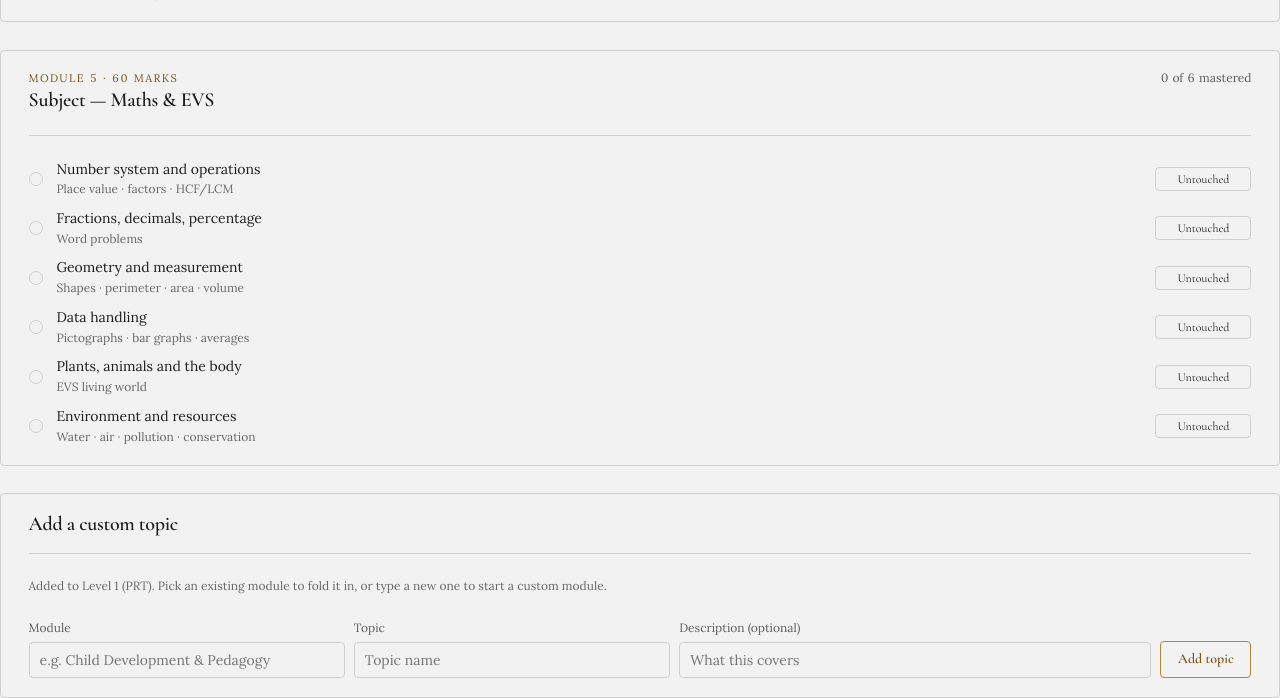
Test: Syllabus custom topics › deleting a custom topic removes it from the syllabus view
The width and height of the screenshot is (1280, 698).
(page scrolled)
Type "My Own Module" into the field with placeholder "e.g. Child Development & Pedagogy" at x=187, y=660, box [29,642,345,678]
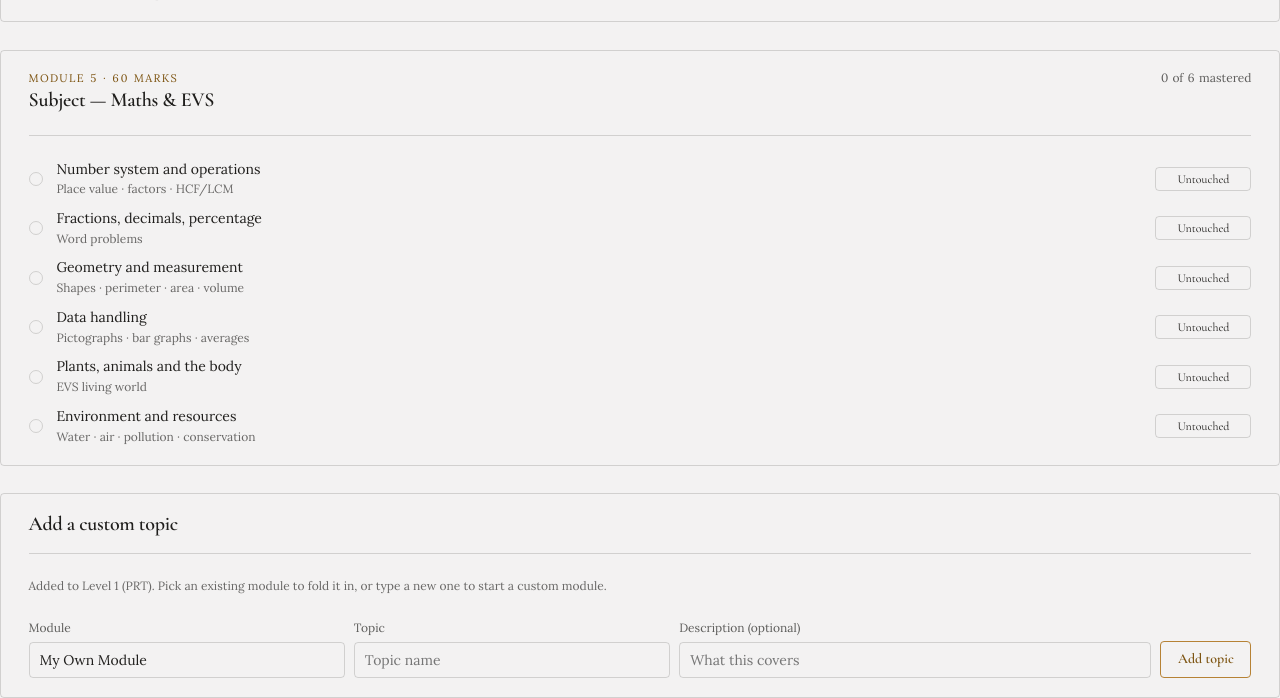
Type "Topic X" into the field with placeholder "Topic name" at x=512, y=660, box [354,642,670,678]
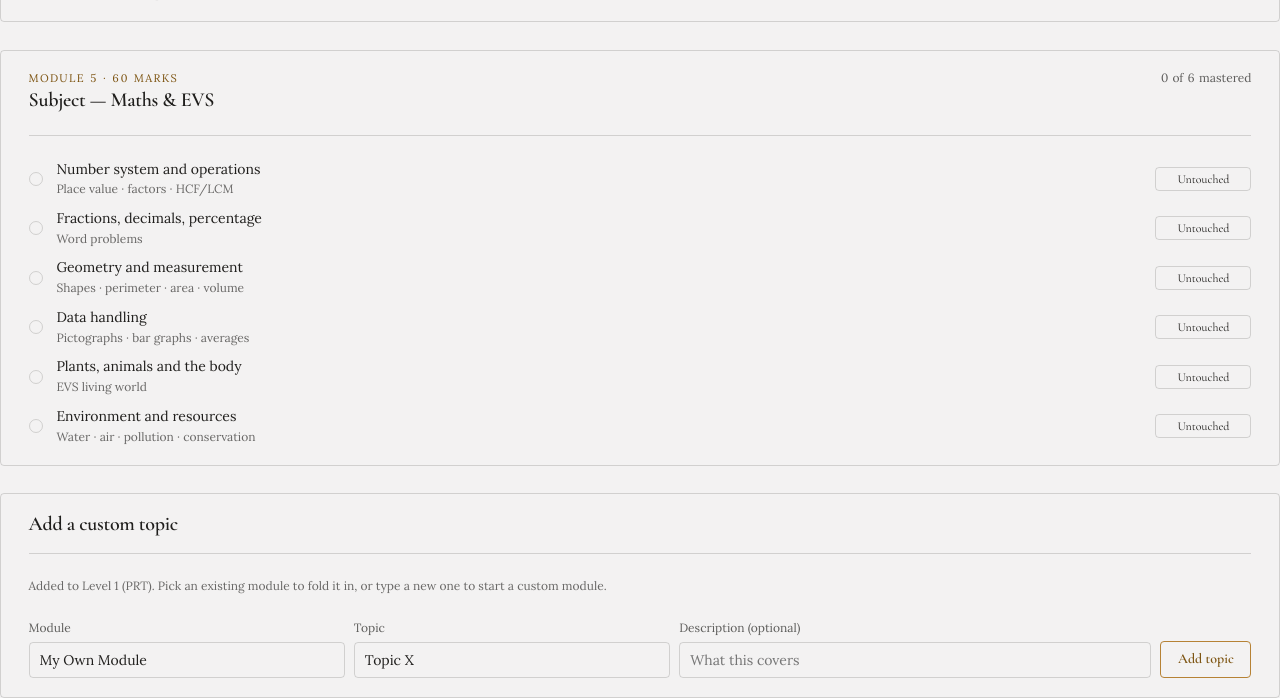
Click the button "Add topic" at x=1206, y=660, box [1160,641,1251,678]
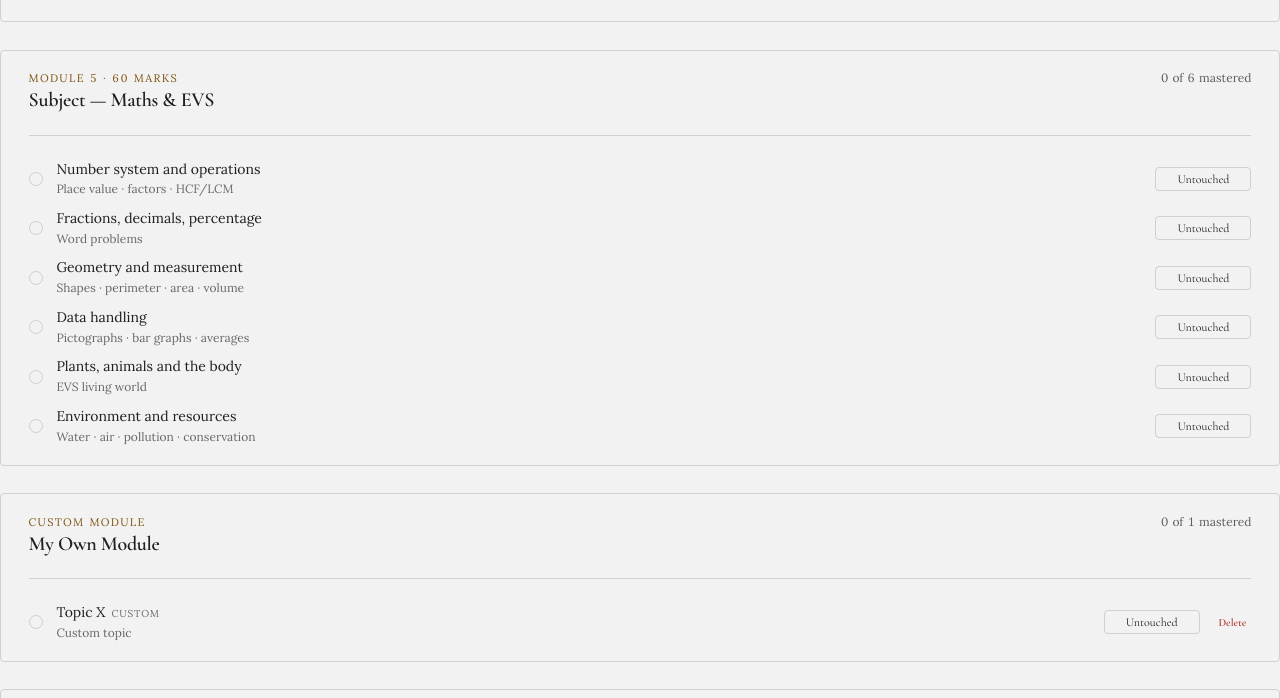
Expected: the text "Topic X" is shown, [56,603,105,621]
Click the button with aria-label "Delete custom topic Topic X" at x=1232, y=622, box [1214,612,1251,632]
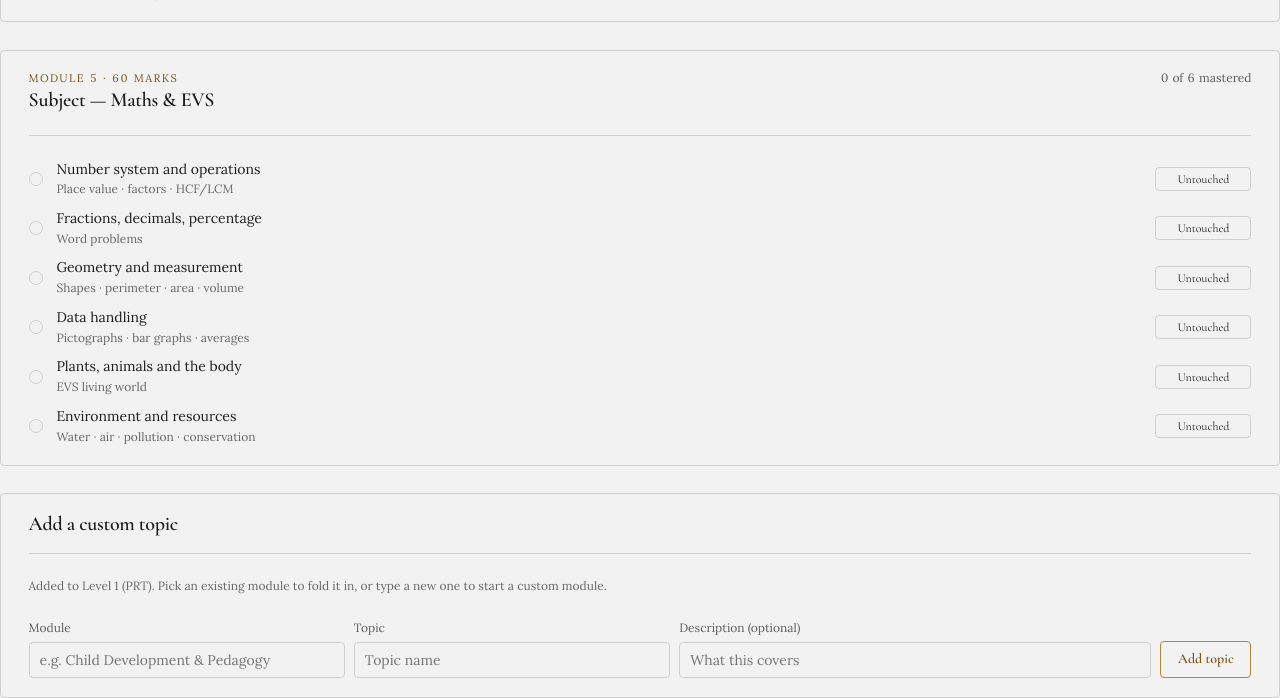
Expected: the text "Topic X" is gone
Expected: the heading "My Own Module" is gone
